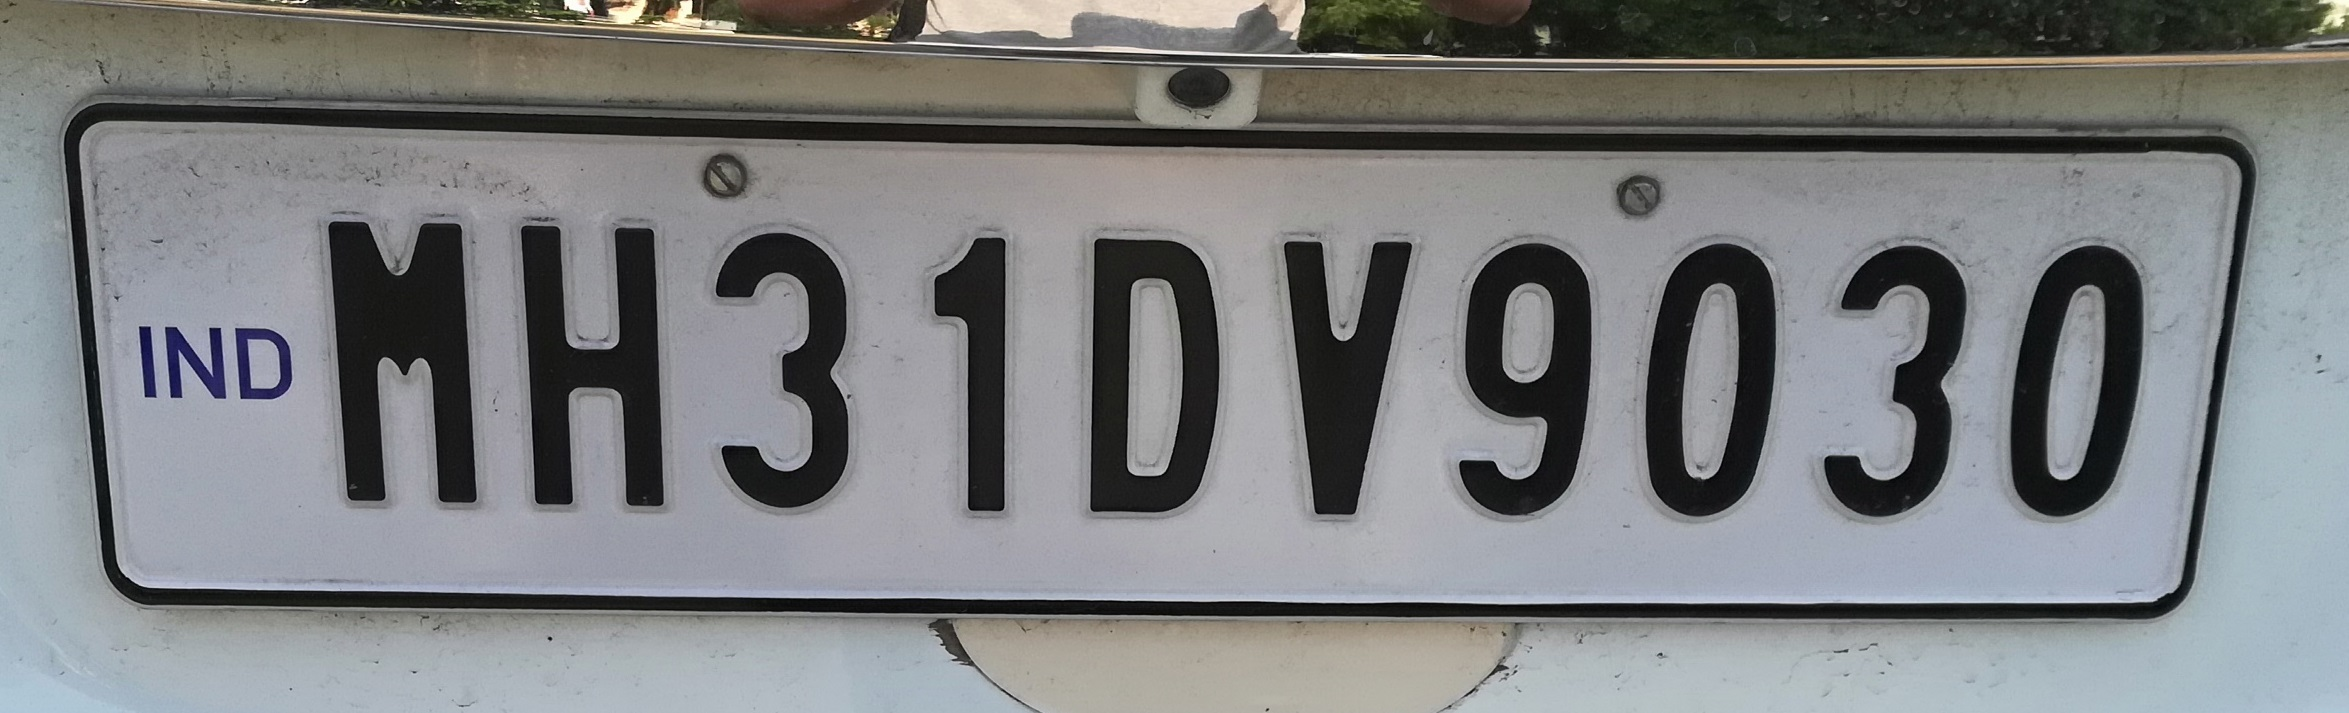numberplate: (44, 83, 2261, 640)
